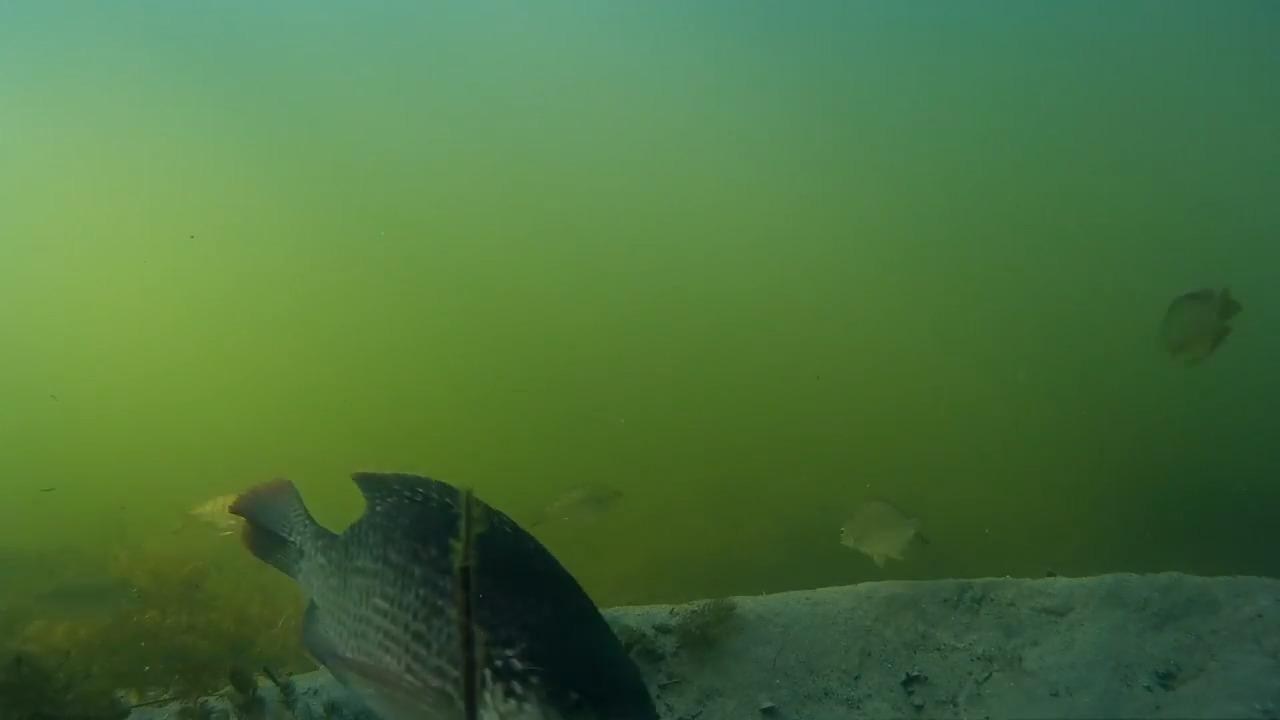Tilapia: (213, 444, 662, 720), (800, 488, 957, 586), (1144, 260, 1259, 364), (526, 462, 635, 532)
